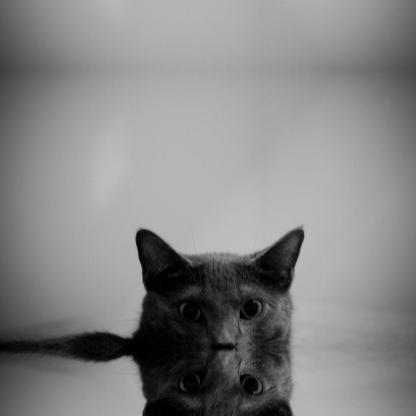Cat: (0, 224, 304, 346), (0, 346, 305, 415)
